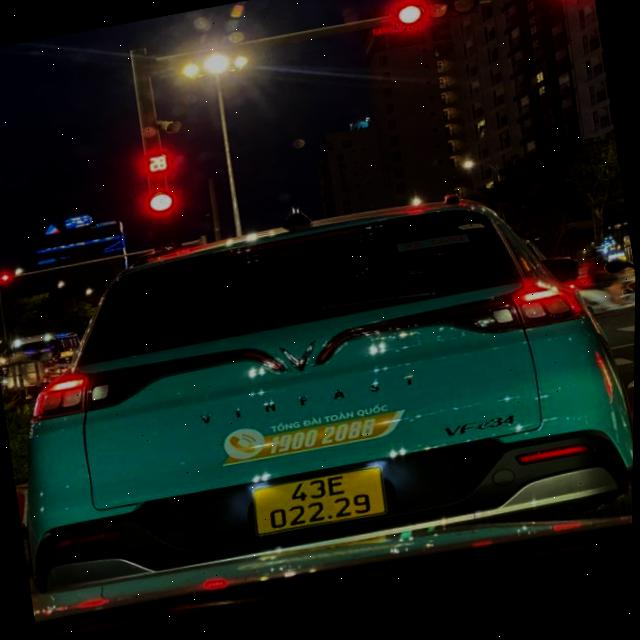car: (0, 161, 637, 597)
plate: (235, 455, 403, 548)
